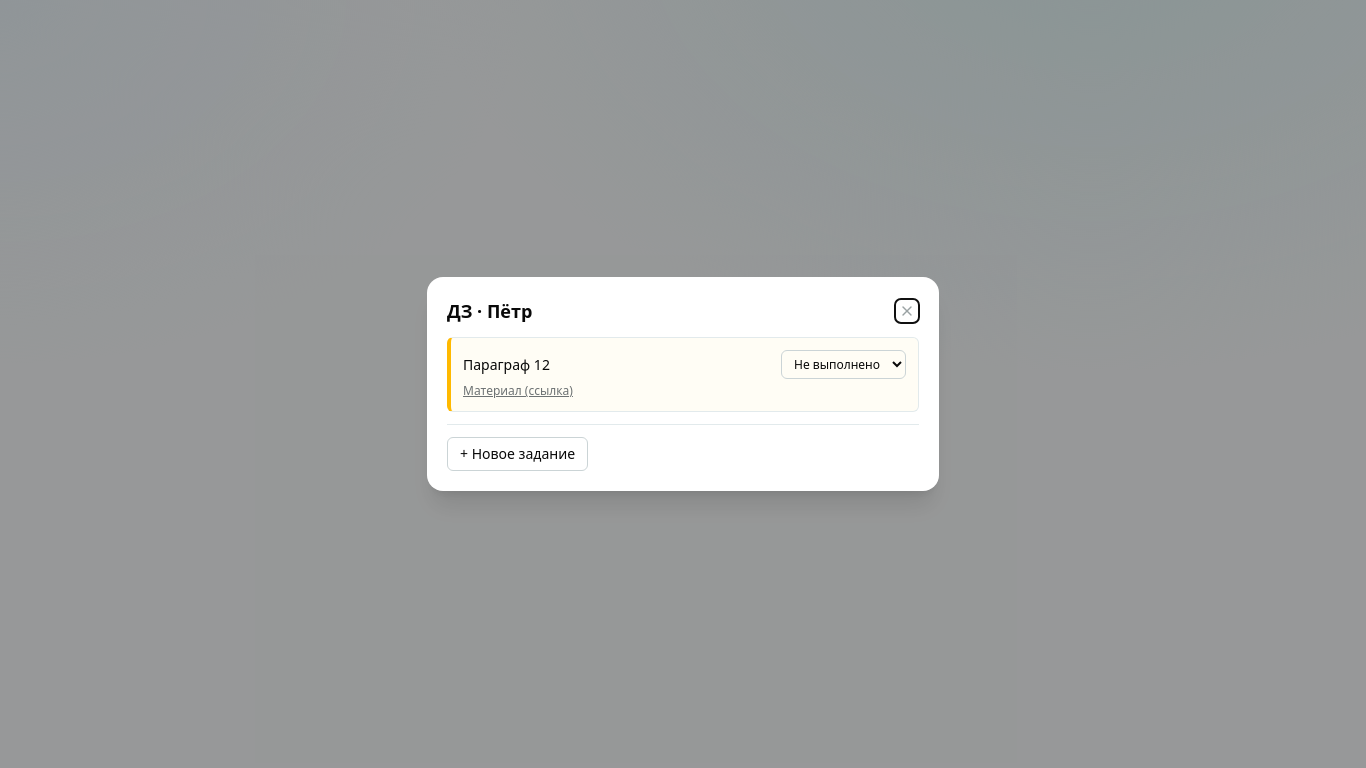
it: StudentHomeworkModal › материал: ссылка или файл › без материала не отправляет
This screenshot has width=1366, height=768.
Step 1. Click the button "+ Новое задание" → (518, 454), box x1=447 y1=437 x2=588 y2=471
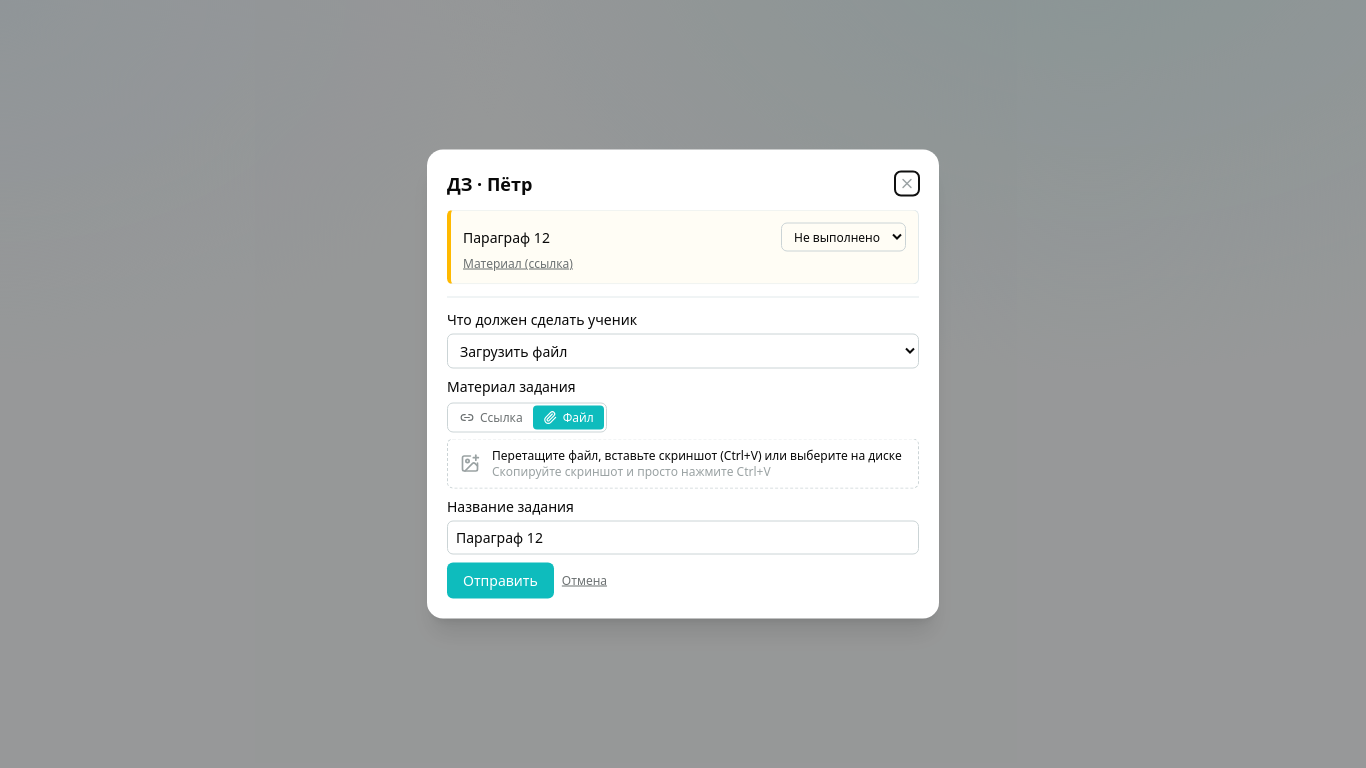
Step 2. Submit the form, box x1=447 y1=310 x2=919 y2=598
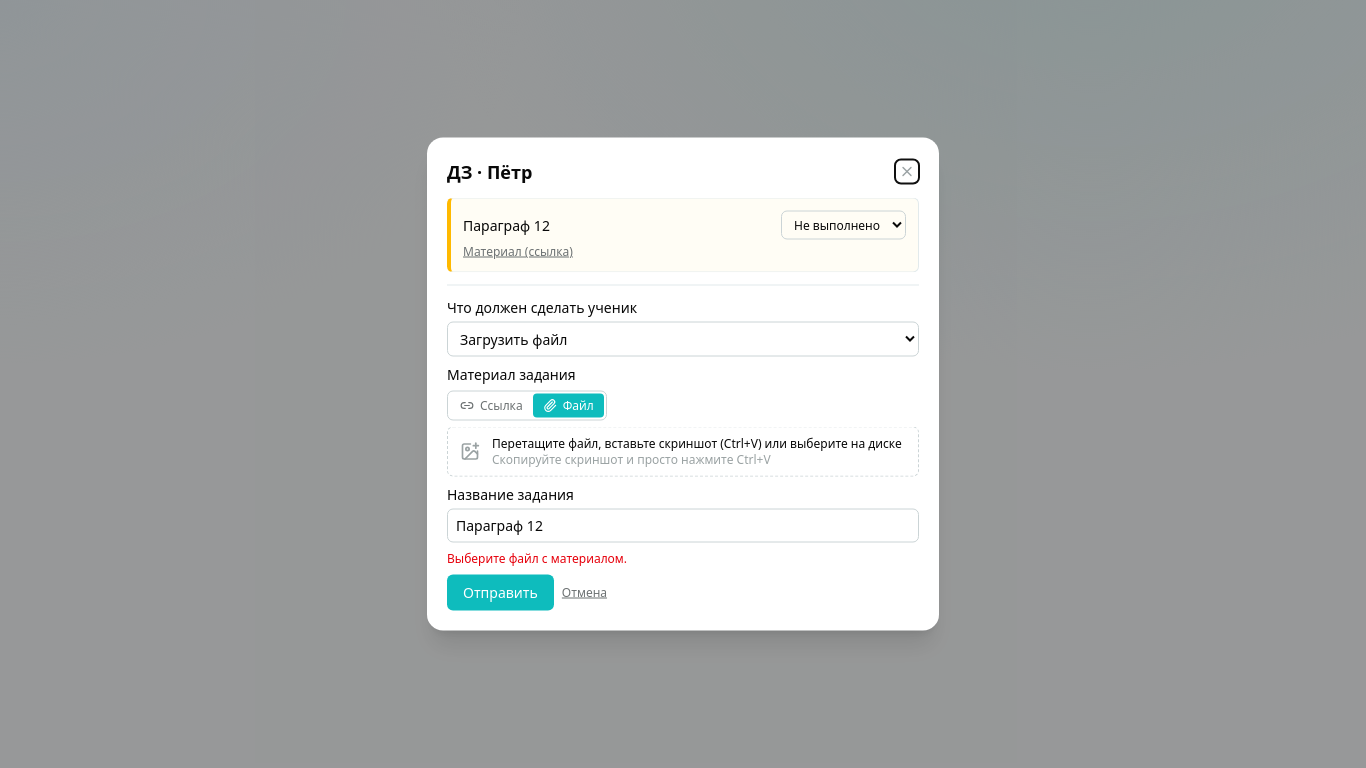
Expected: the text "Выберите файл с материалом." is shown, x1=447 y1=550 x2=627 y2=566
